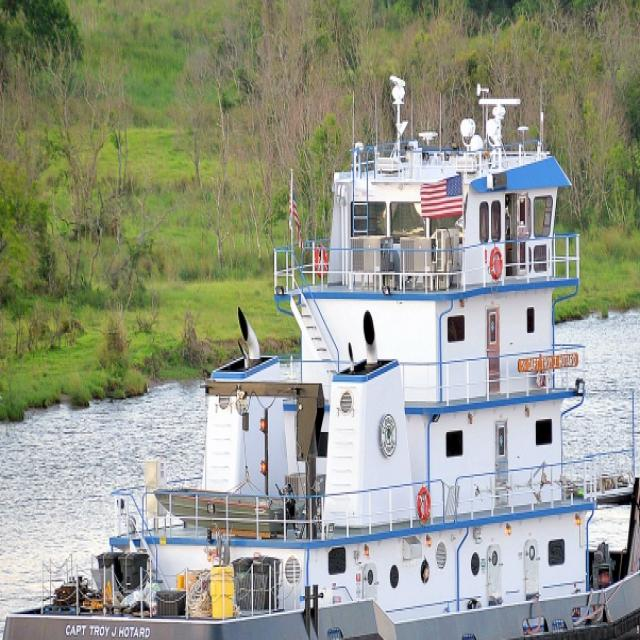tugboat: (1, 71, 640, 640)
